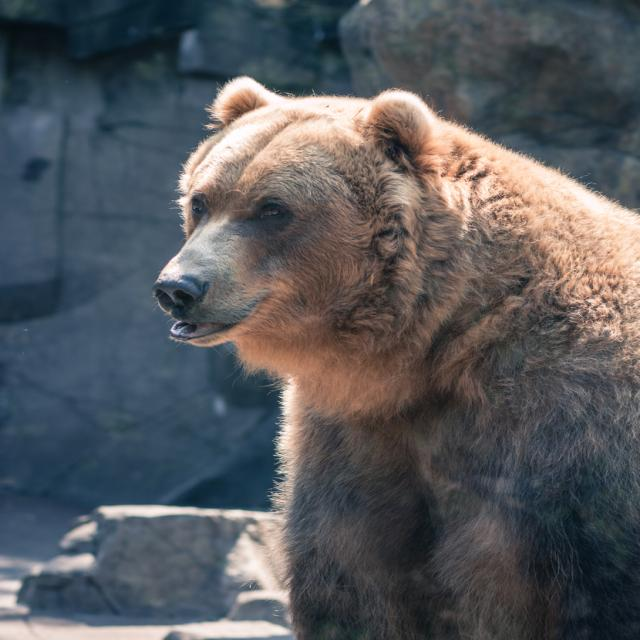Cheetahs: (150, 76, 640, 640)
